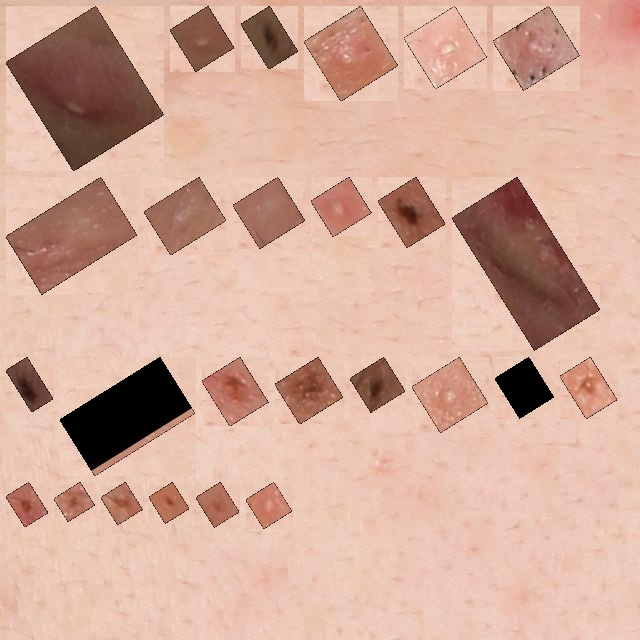hypertrophic_scar: (463, 188, 589, 339), (17, 188, 126, 283), (155, 188, 215, 244), (244, 188, 294, 237)
melasma: (71, 368, 184, 464)
nevus: (389, 188, 434, 236), (286, 368, 332, 413), (213, 368, 257, 415), (506, 368, 543, 407), (252, 17, 287, 58), (571, 368, 606, 407), (10, 368, 42, 405), (361, 368, 394, 401), (207, 493, 228, 516), (17, 493, 37, 516), (112, 493, 132, 513), (160, 493, 178, 512), (65, 493, 84, 510)
pustule: (17, 17, 153, 160), (315, 17, 387, 90), (504, 17, 569, 79), (415, 17, 476, 78), (423, 368, 477, 421), (181, 17, 223, 60), (322, 188, 360, 225), (257, 493, 281, 517)
